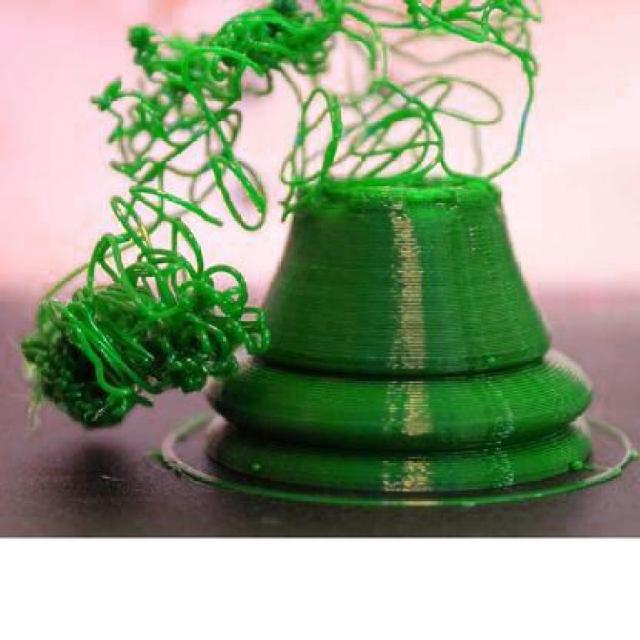Spaghetti: (83, 0, 548, 231), (2, 233, 284, 441)
